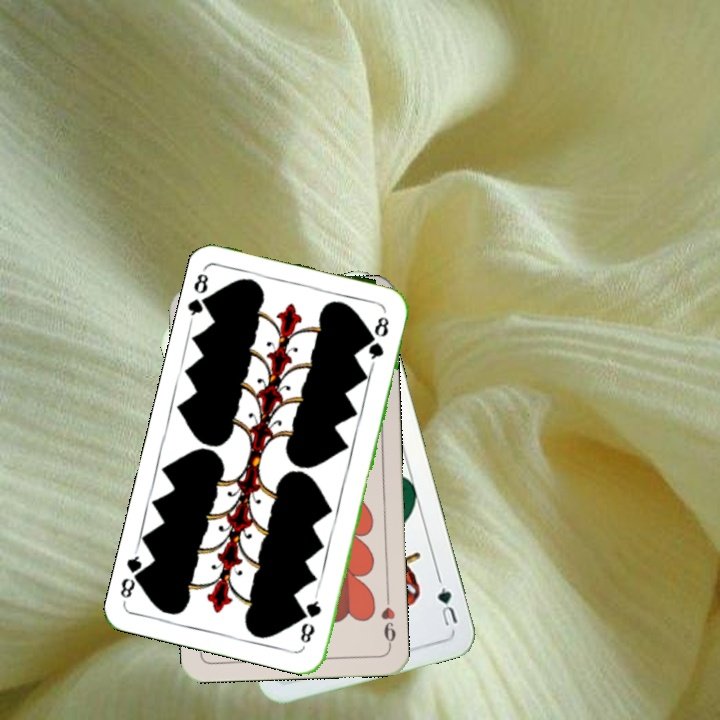G8: (184, 264, 216, 322), (296, 590, 324, 646)
GU: (433, 583, 461, 629)
H9: (377, 590, 399, 649)
